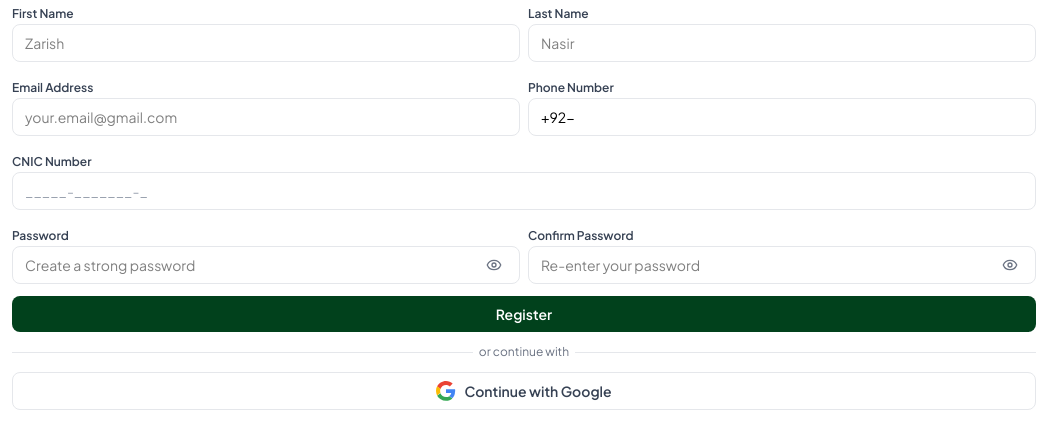
Test: ClientRegisterForm › rejects a badly formatted email
The width and height of the screenshot is (1048, 447).
Type "not-an-email" into the field labelled "Email Address".
click(266, 117); type("not-an-email")  # box top-left (12, 98), bottom-right (520, 136)
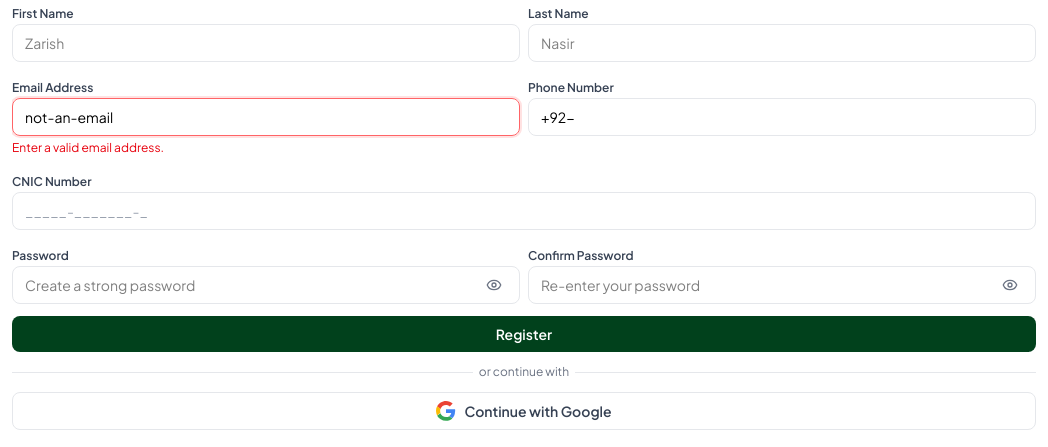
expect the text "Enter a valid email address." is shown: met, box top-left (12, 140), bottom-right (164, 155)
